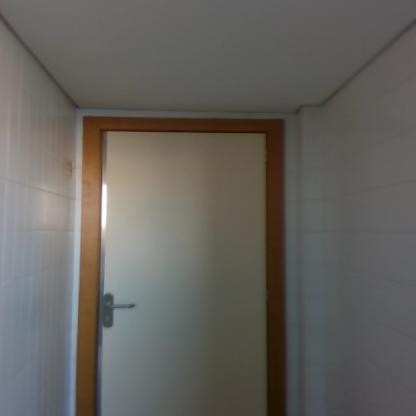door: (101, 131, 266, 415)
hinged: (263, 286, 271, 305), (263, 148, 270, 165)
lever: (105, 300, 136, 310)
